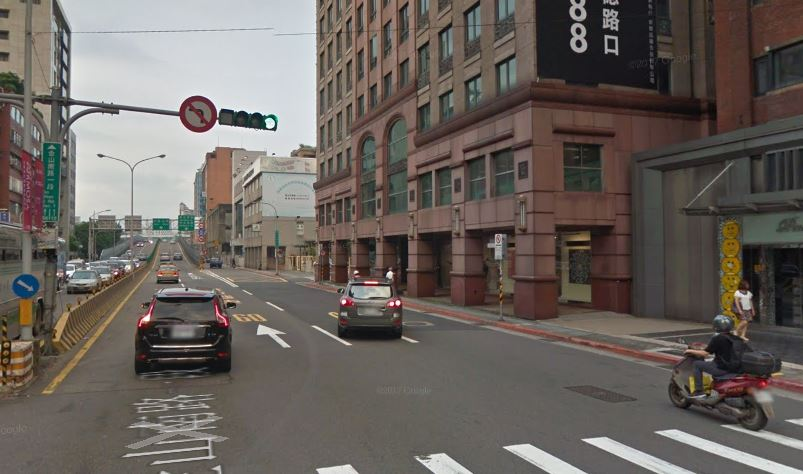Traffic_light_green: (221, 105, 279, 137)
car: (132, 286, 239, 379), (332, 276, 407, 337)
motorcycle: (661, 336, 782, 424)
